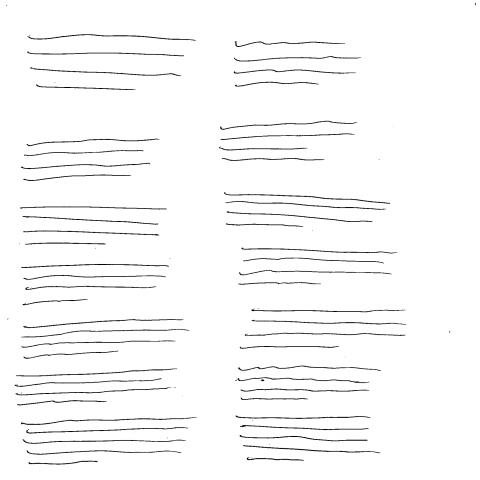Paragraph: (28, 35, 197, 93), (21, 418, 201, 466), (240, 309, 408, 350), (21, 319, 188, 360), (236, 416, 380, 461), (22, 264, 172, 307), (238, 248, 398, 287), (14, 369, 177, 407), (21, 139, 162, 182), (224, 192, 392, 228), (20, 206, 169, 246), (220, 121, 359, 162), (237, 367, 383, 403)
